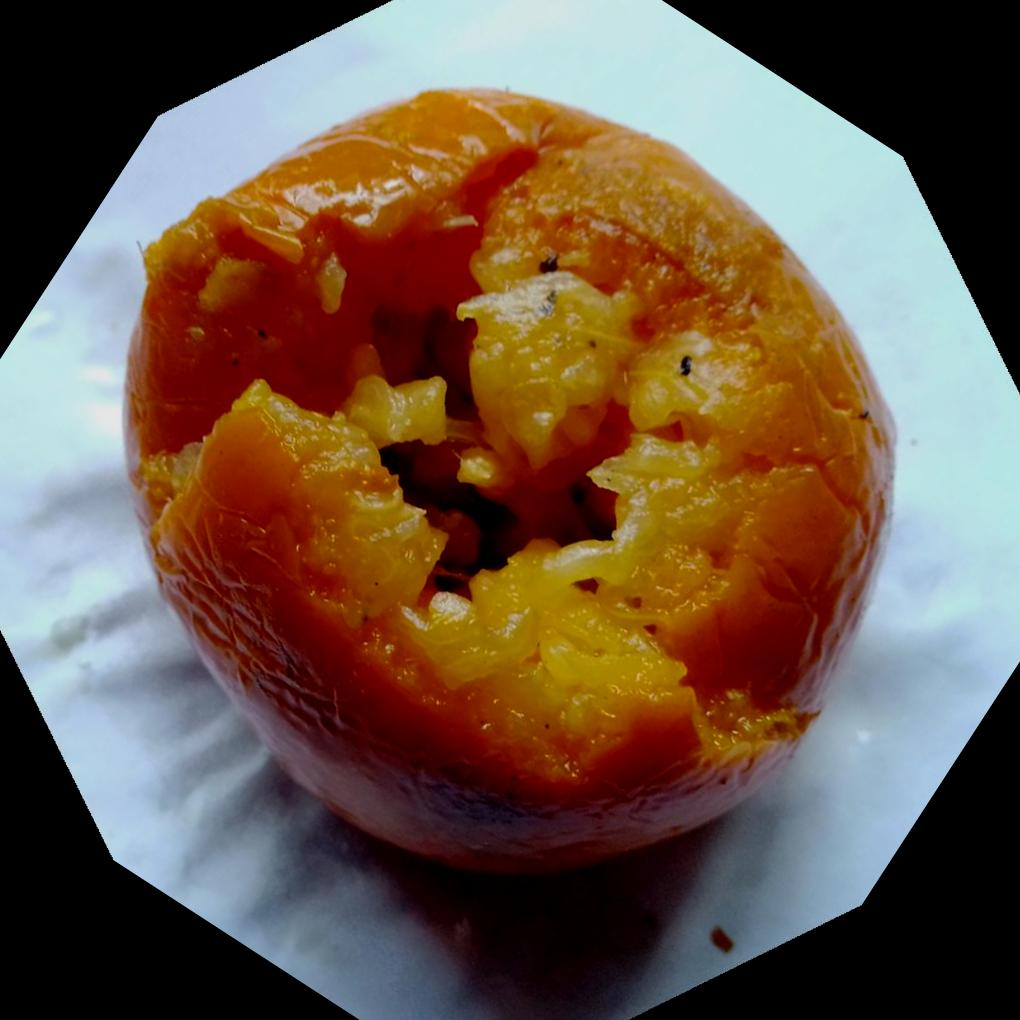FreshOrange: (118, 87, 897, 881)
